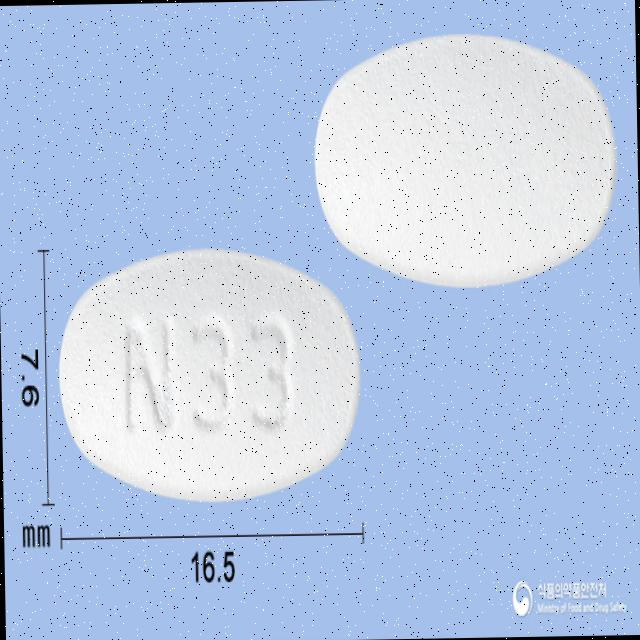Moxiclen Tab: (311, 27, 617, 290), (57, 243, 360, 504)
